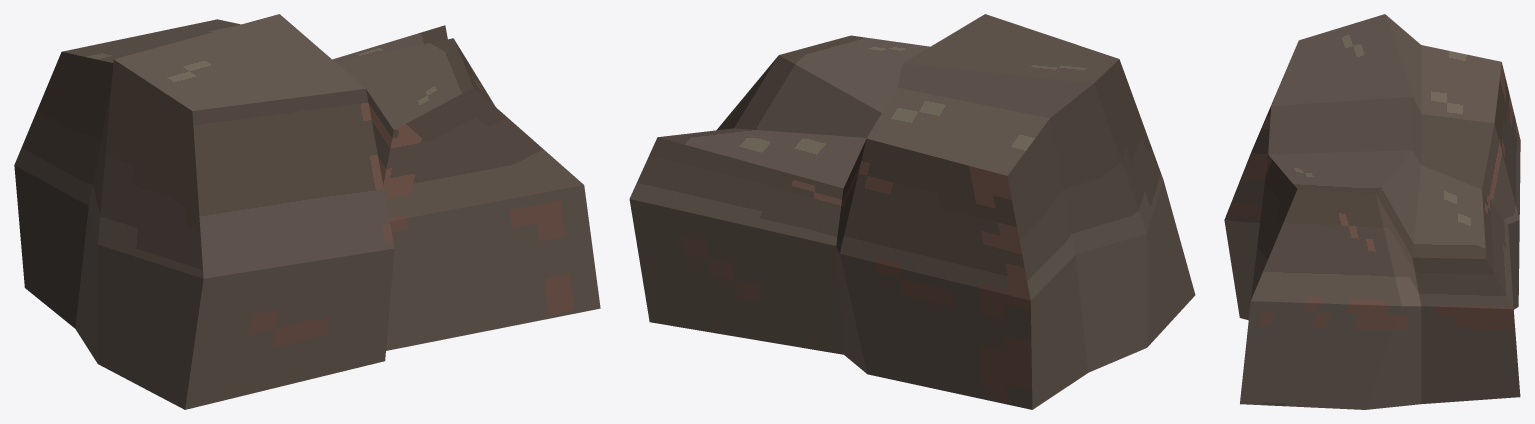
Rendered from Rock1.fbx.
3 renders of one model, left to right at view 1: azimuth 30°, elevation 25°; view 2: azimuth 150°, elevation 25°; view 3: azimuth 270°, elevation 25°, orthographic. The views are drawn at different scales.
Visible parts, largest first — view 1: Cube.001; view 2: Cube.001; view 3: Cube.001.
Part boxes in pixels (box(x1,y1,x2,y2)): Cube.001: box(14, 14, 600, 409); Cube.001: box(629, 14, 1195, 409); Cube.001: box(1224, 14, 1520, 409).
Bounding box in the file's own units: 167 × 99.91 × 116.
